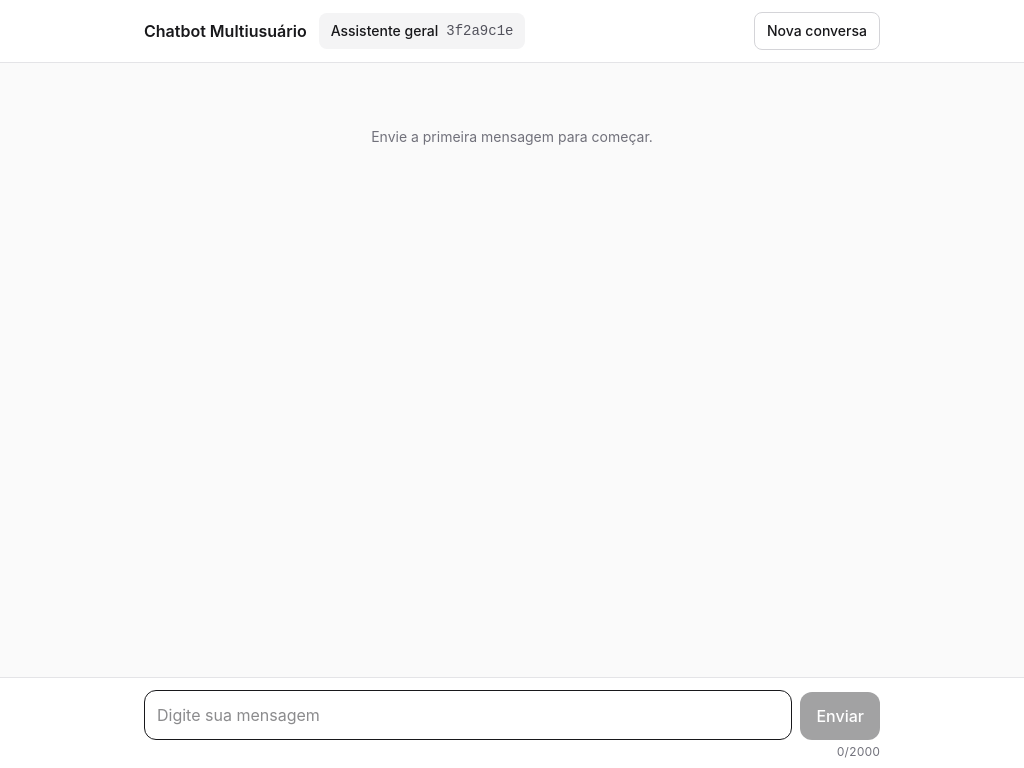
Test: erros e sessão expirada › exceção de rede ao enviar mostra a mensagem genérica
This screenshot has width=1024, height=768.
Type "Oi" into the text box labelled "mensagem" at (468, 715), box [144,690,792,740]
Then press Enter
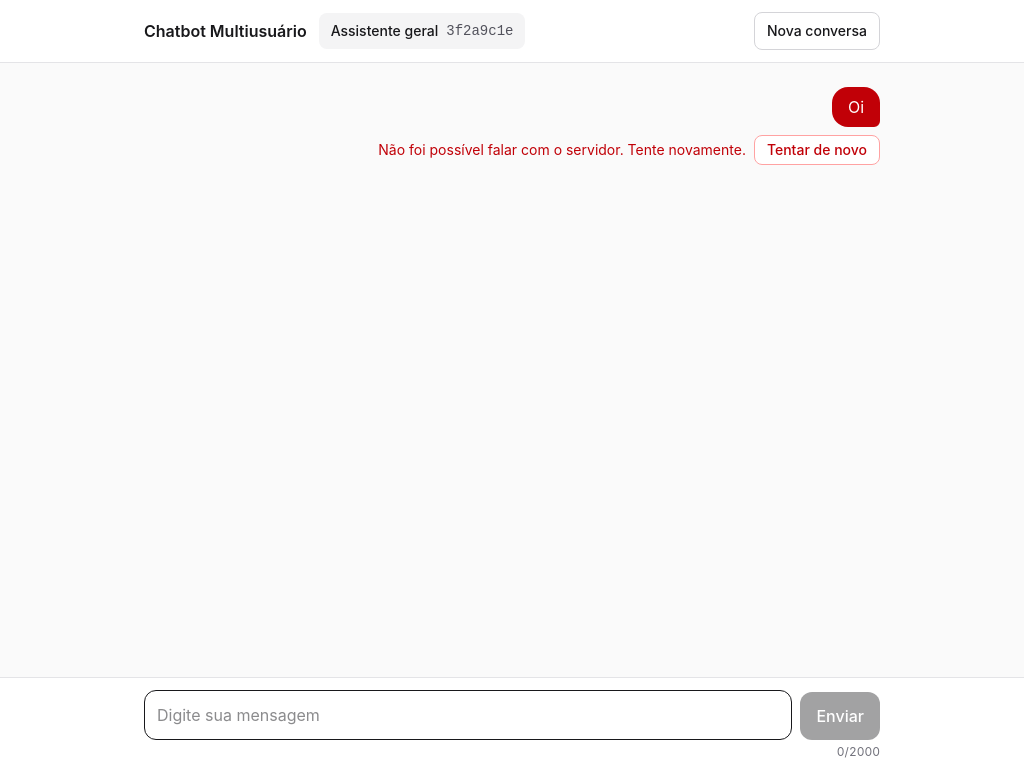
Result: the text "Não foi possível falar com o servidor. Tente novamente." is shown at [378,140,746,160]
Result: the button "Tentar de novo" is shown at [754,135,880,165]
